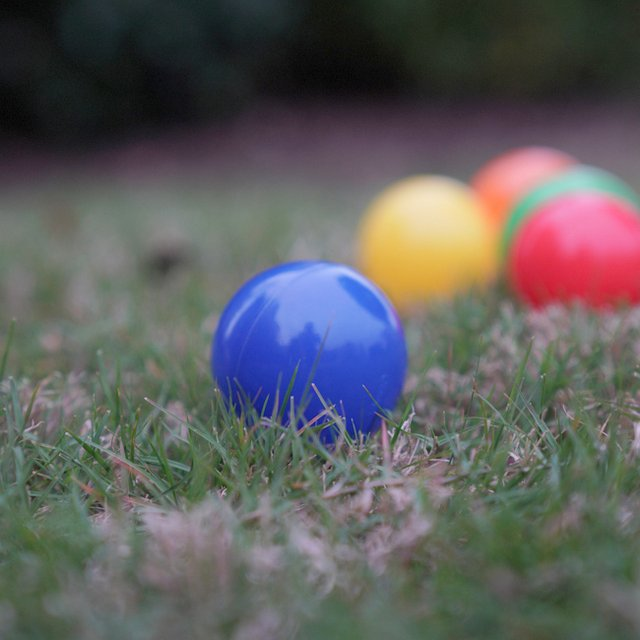ball: (209, 258, 408, 443)
